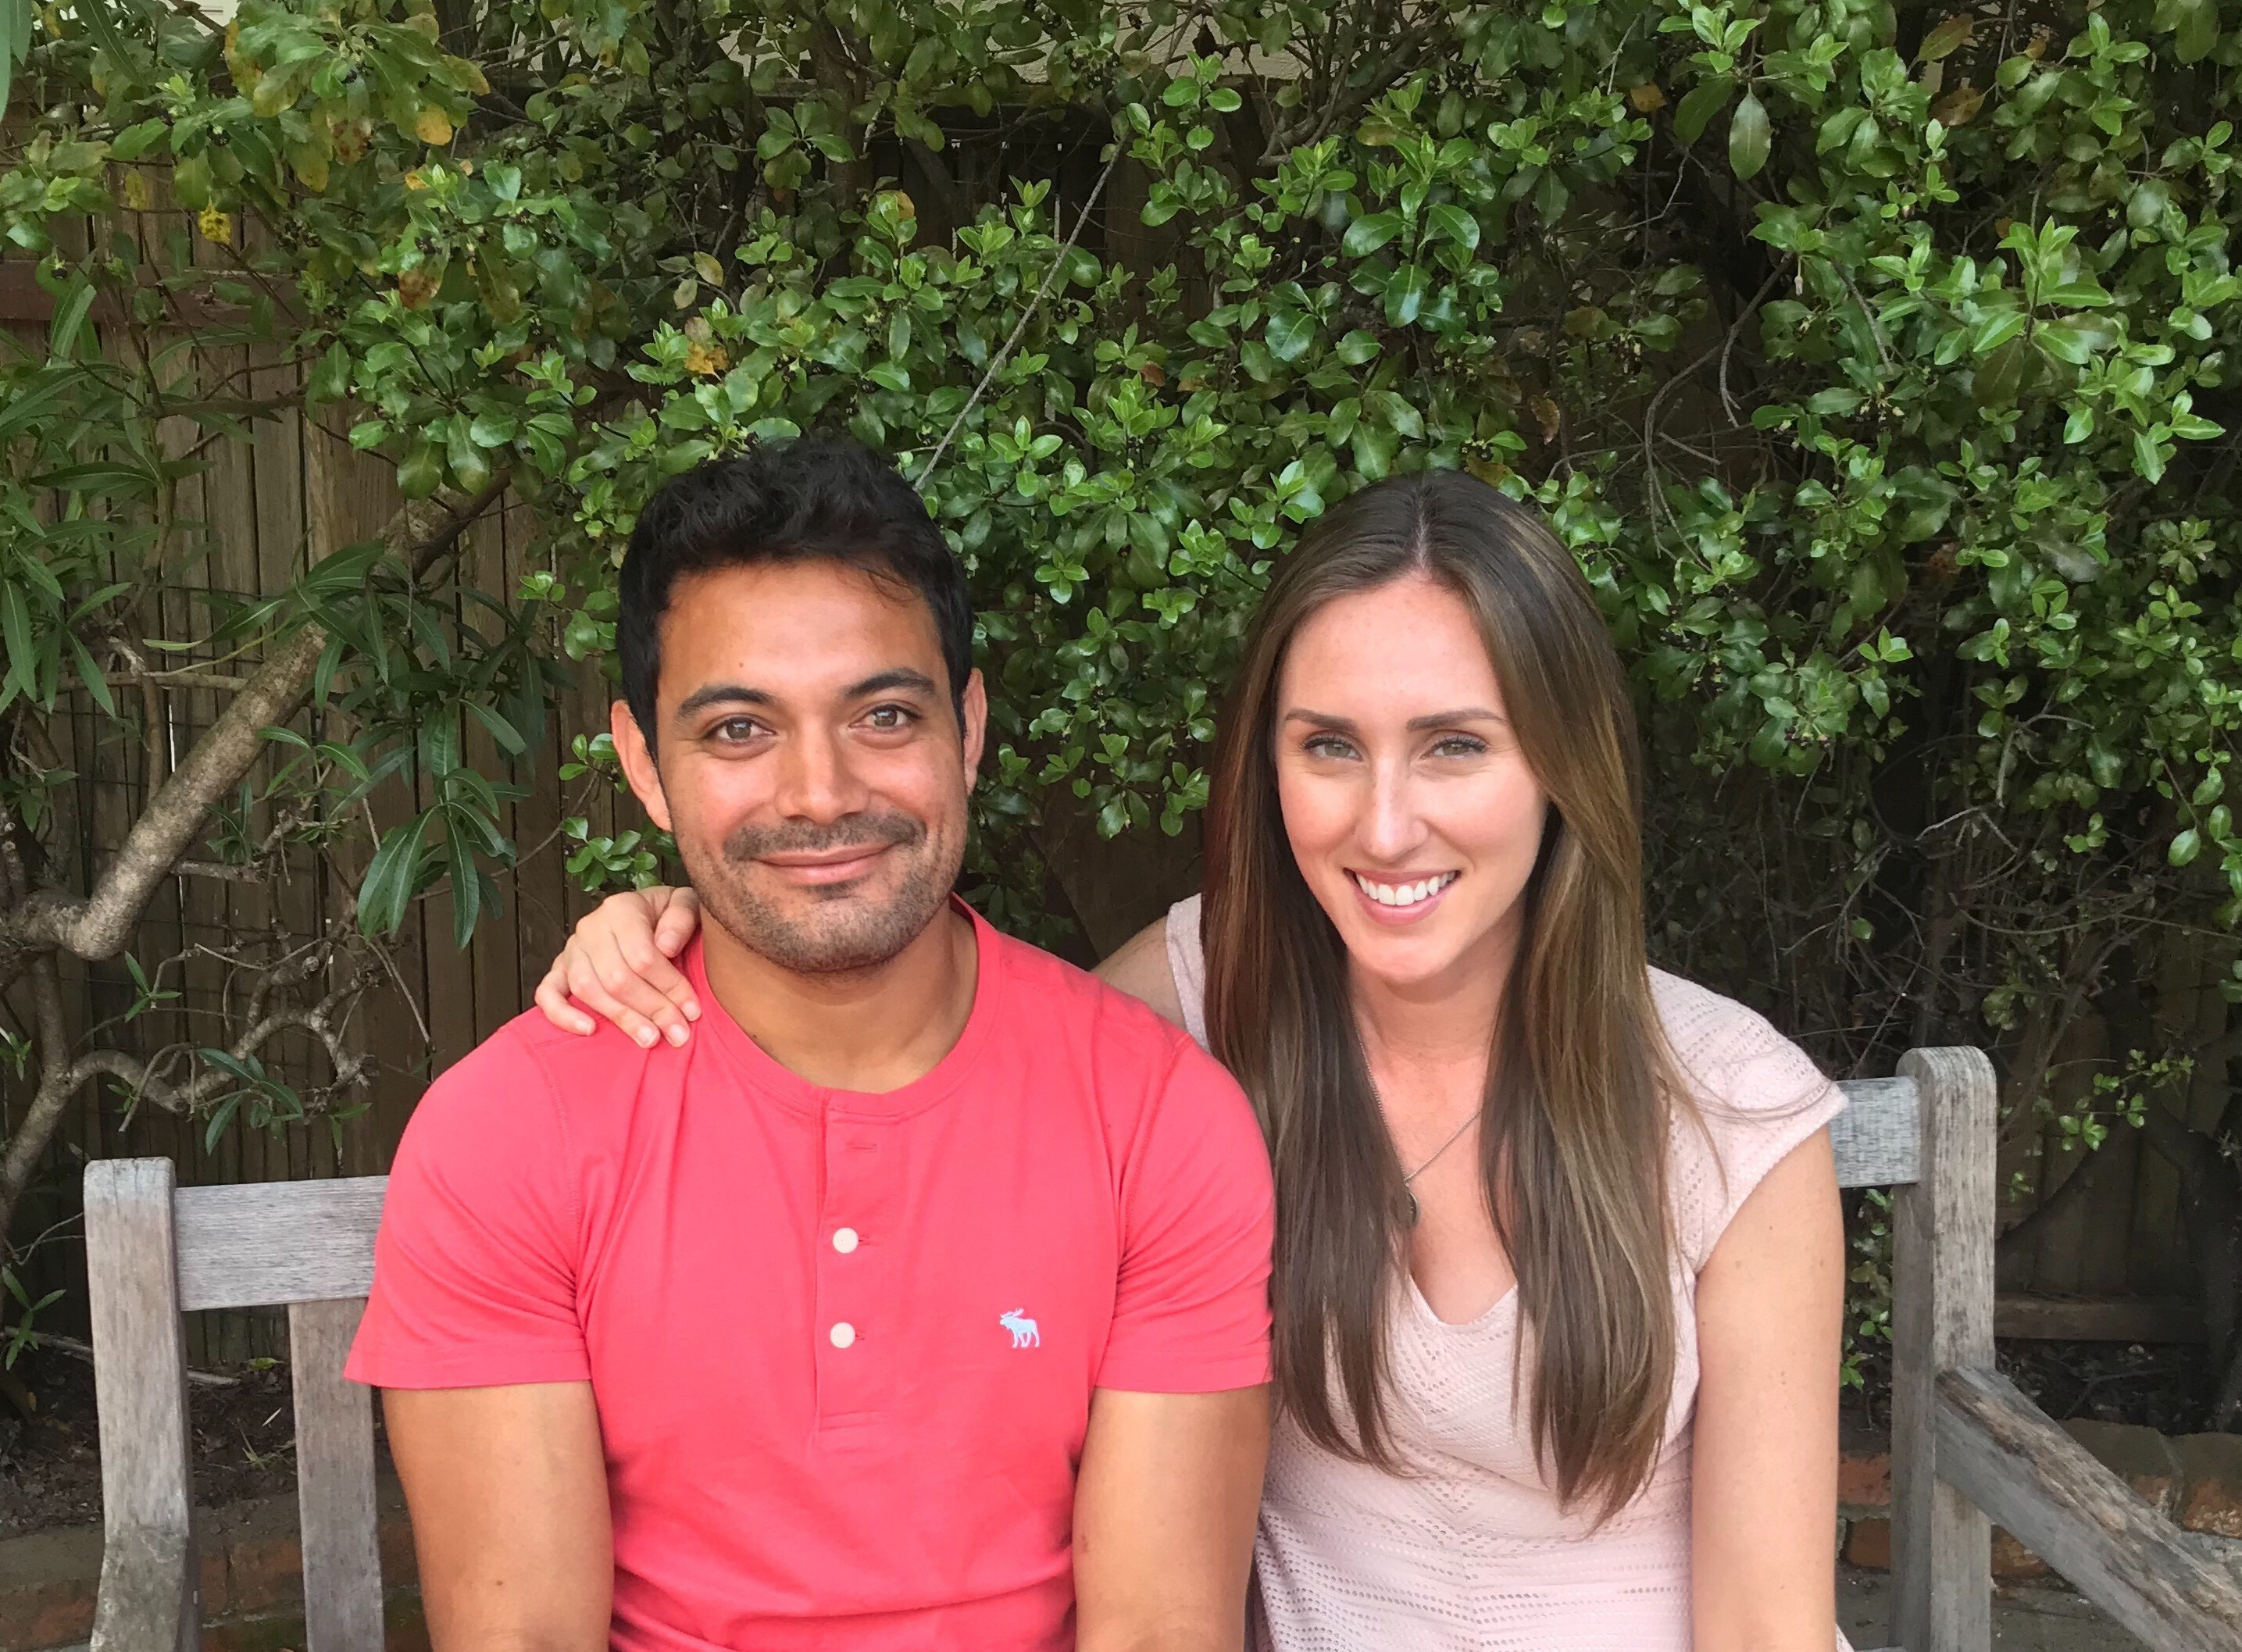face_no_mask: (610, 458, 991, 982), (1257, 549, 1569, 985)
